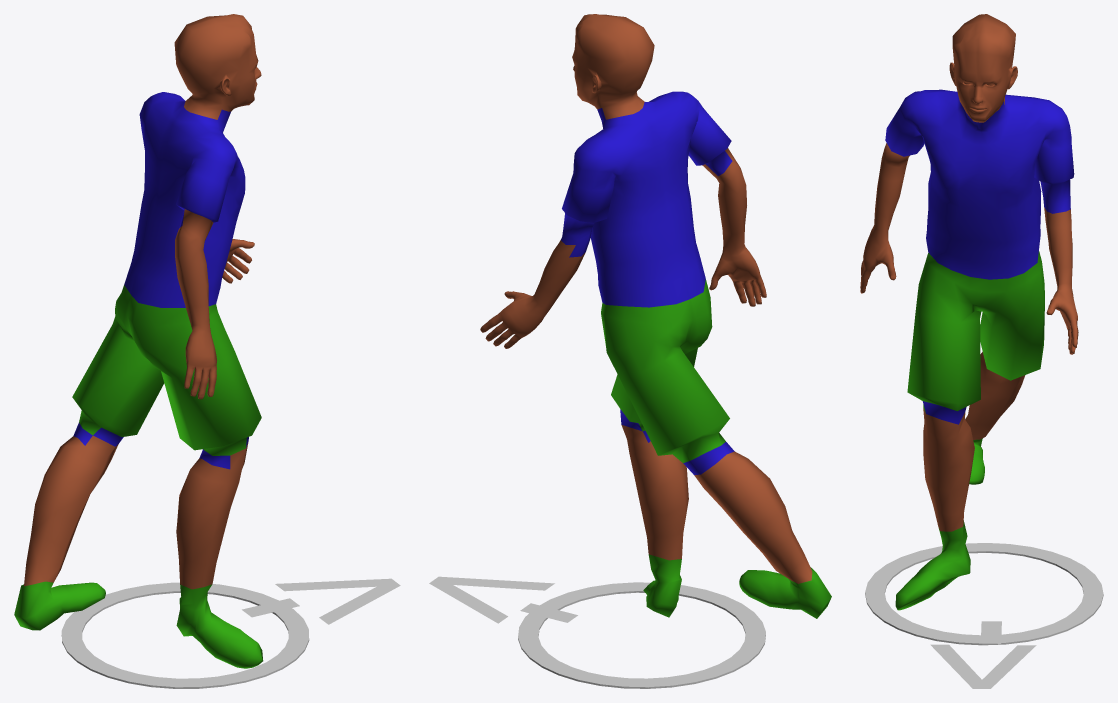
The model's file is playerAI_000019.obj.
The picture shows the model from 3 angles, left to right: view 1: azimuth 30°, elevation 25°; view 2: azimuth 150°, elevation 25°; view 3: azimuth 270°, elevation 25°; orthographic projection. The views are drawn at different scales.
Visible parts, largest first — view 1: soccerplayer.003_mesh.002, Circle.001, Text_Mesh; view 2: soccerplayer.003_mesh.002, Circle.001, Text_Mesh; view 3: soccerplayer.003_mesh.002, Circle.001, Text_Mesh.
Boxes of the visible parts, <box> form: soccerplayer.003_mesh.002: <box>14,14,263,668</box>; Circle.001: <box>61,582,309,688</box>; Text_Mesh: <box>242,578,400,624</box>; soccerplayer.003_mesh.002: <box>480,14,831,618</box>; Circle.001: <box>518,582,765,688</box>; Text_Mesh: <box>429,576,577,623</box>; soccerplayer.003_mesh.002: <box>860,14,1078,610</box>; Circle.001: <box>865,543,1103,645</box>; Text_Mesh: <box>930,621,1036,688</box>.
Bounding box in the file's own units: 1.95 × 2.98 × 1.11.
